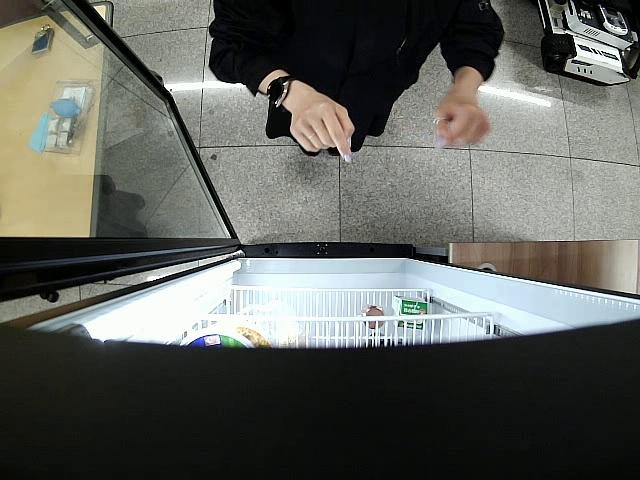00_hand: (289, 88, 354, 164), (433, 91, 492, 149)
